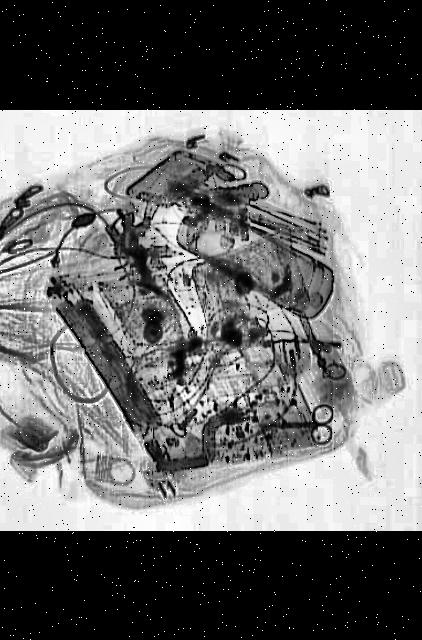Scissors: (264, 404, 332, 446)
